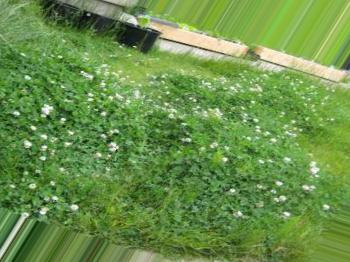patch: (118, 60, 153, 80)
